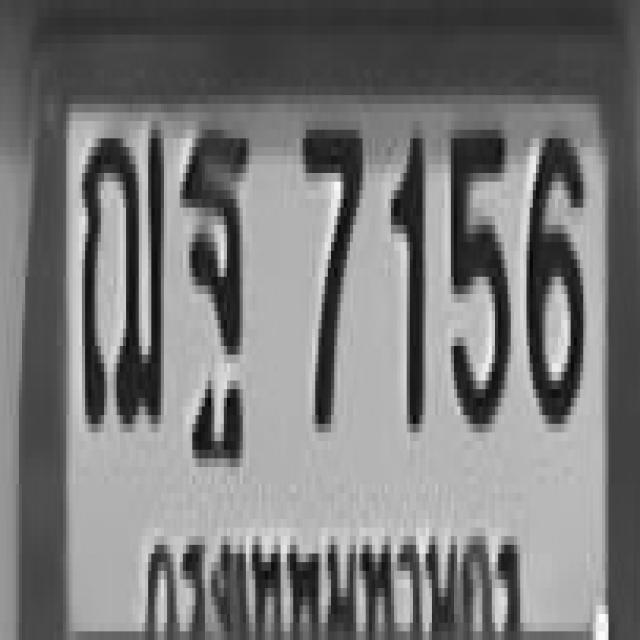1: (388, 126, 422, 420)
21ChorChoe: (79, 121, 161, 424)
25ThorThan: (180, 126, 246, 420)
5: (448, 121, 508, 424)
6: (523, 130, 580, 415)
7: (300, 121, 360, 424)
